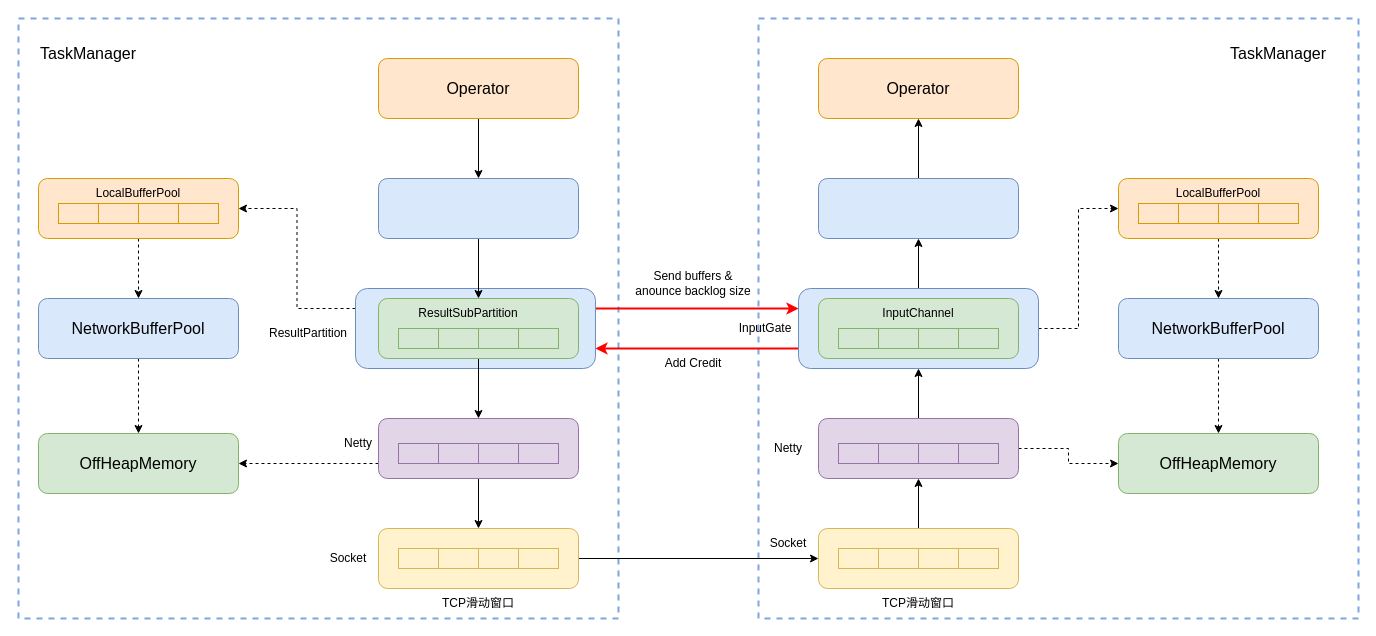
Image size: 1376x636. Some labels were removed from this diagram. The centre of each missing label's shape, as x and y in pixels:
RecordReader: the point at 918,208
RecordWriter: the point at 478,208
